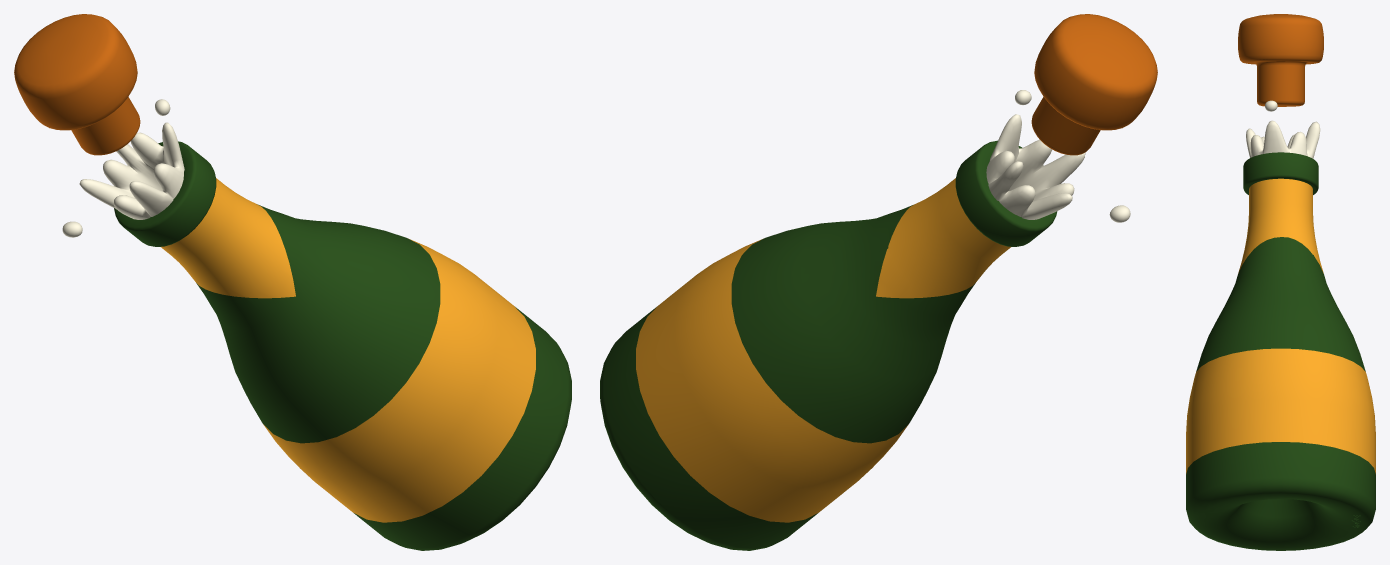
Rendered from bottle_with_popping_cork.glb.
3 renders of one model, left to right at view 1: azimuth 30°, elevation 25°; view 2: azimuth 150°, elevation 25°; view 3: azimuth 270°, elevation 25°, orthographic. The views are drawn at different scales.
Parts seen in each view (by area): view 1: Circle.2276; view 2: Circle.2276; view 3: Circle.2276.
Part boxes in pixels (<box>): Circle.2276: <box>14,14,571,550</box>; Circle.2276: <box>600,14,1157,550</box>; Circle.2276: <box>1186,14,1375,550</box>.
Bounding box in the file's own units: 2.07 × 2.22 × 0.8928.
1 material, 1 textured.
